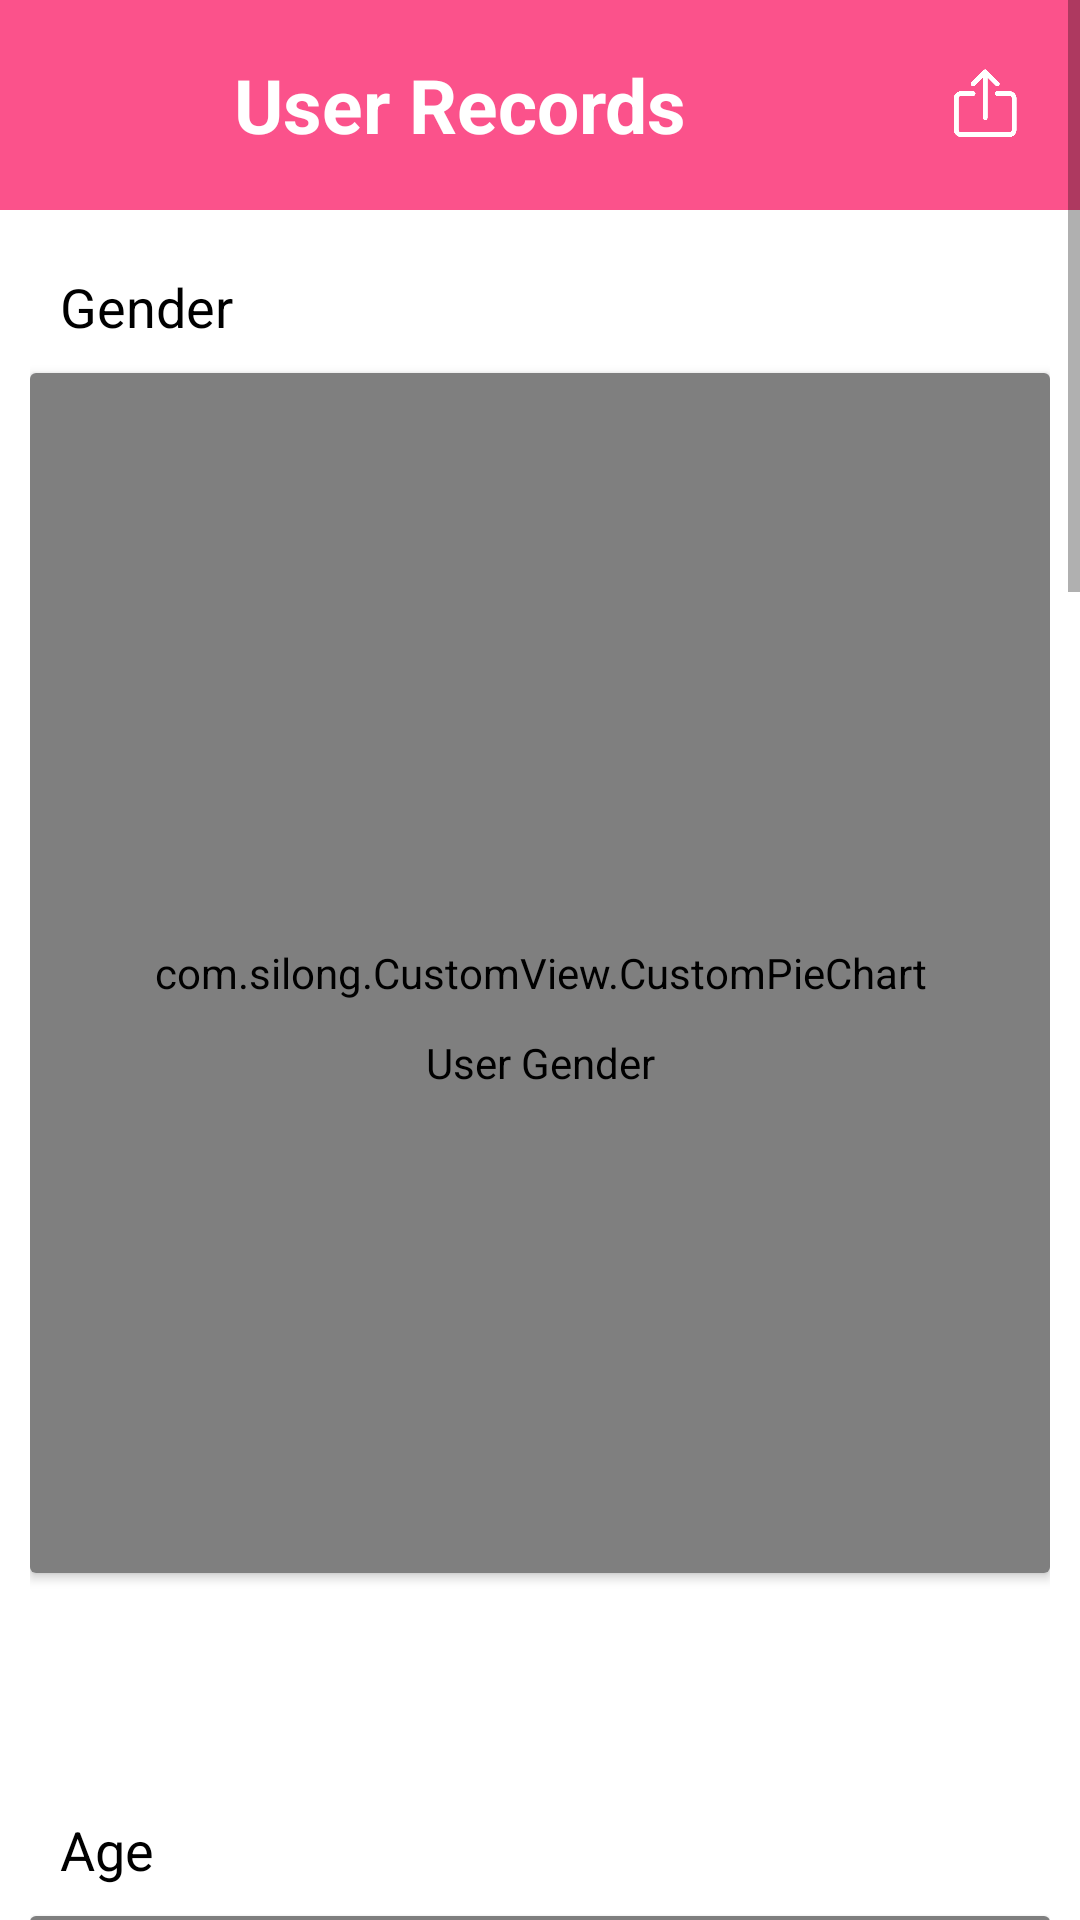

Named icons in this screenshot (1080*1920) and their bounding boxes, Rect(x1, y1, x2, y2):
export: Rect(954, 69, 1017, 137)
